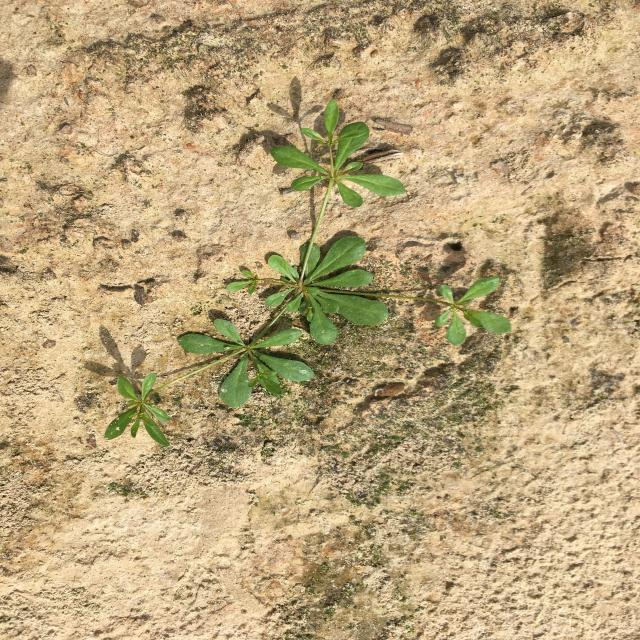Carpetweed: (104, 99, 513, 446)
